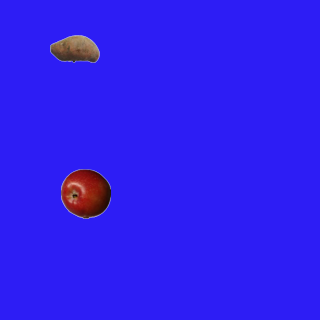Apple Braeburn: (60, 168, 110, 218)
Potato Sweet: (49, 23, 99, 73)
